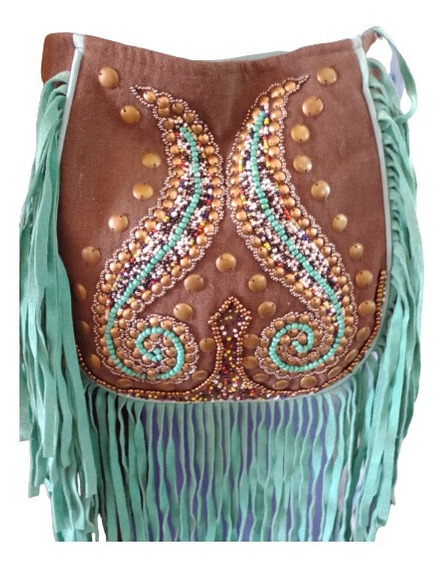cartera: (18, 31, 421, 402)
